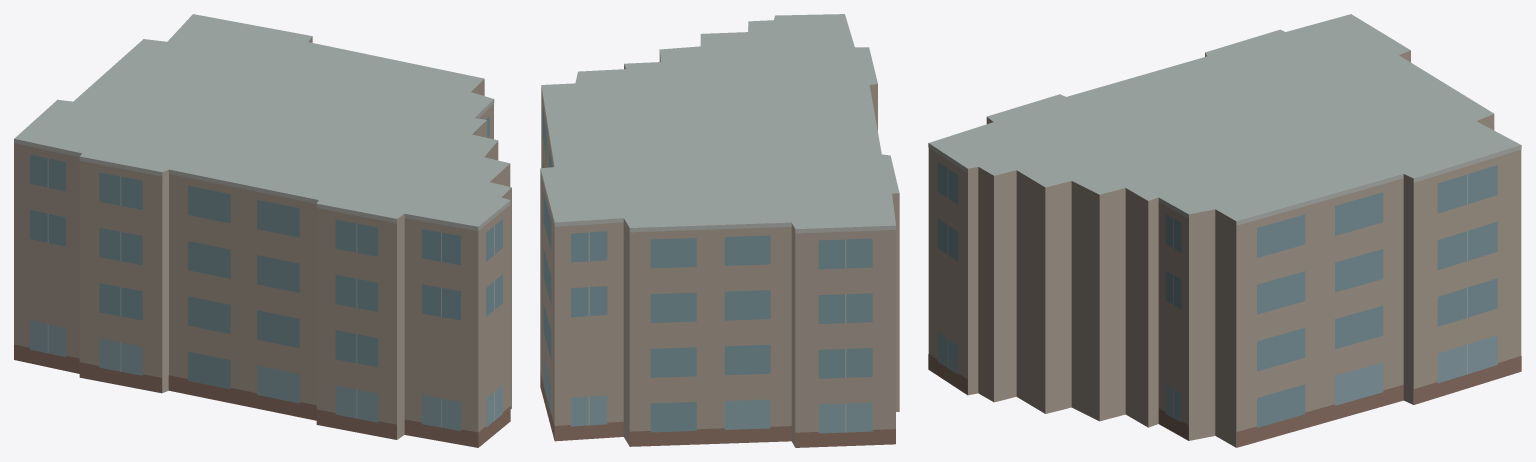
Rendered from survey-upis-32589663.glb.
3 renders of one model, left to right at view 1: azimuth 30°, elevation 25°; view 2: azimuth 150°, elevation 25°; view 3: azimuth 270°, elevation 25°, orthographic. The views are drawn at different scales.
Parts seen in each view (by area): view 1: survey-upis-32589663.tmp; view 2: survey-upis-32589663.tmp; view 3: survey-upis-32589663.tmp.
Part boxes in pixels (x1,y1,x2,y2): survey-upis-32589663.tmp: (14,14,511,447); survey-upis-32589663.tmp: (540,14,899,447); survey-upis-32589663.tmp: (928,14,1521,447).
Size of the model in its own units: 24.54 by 12.5 by 29.66.
